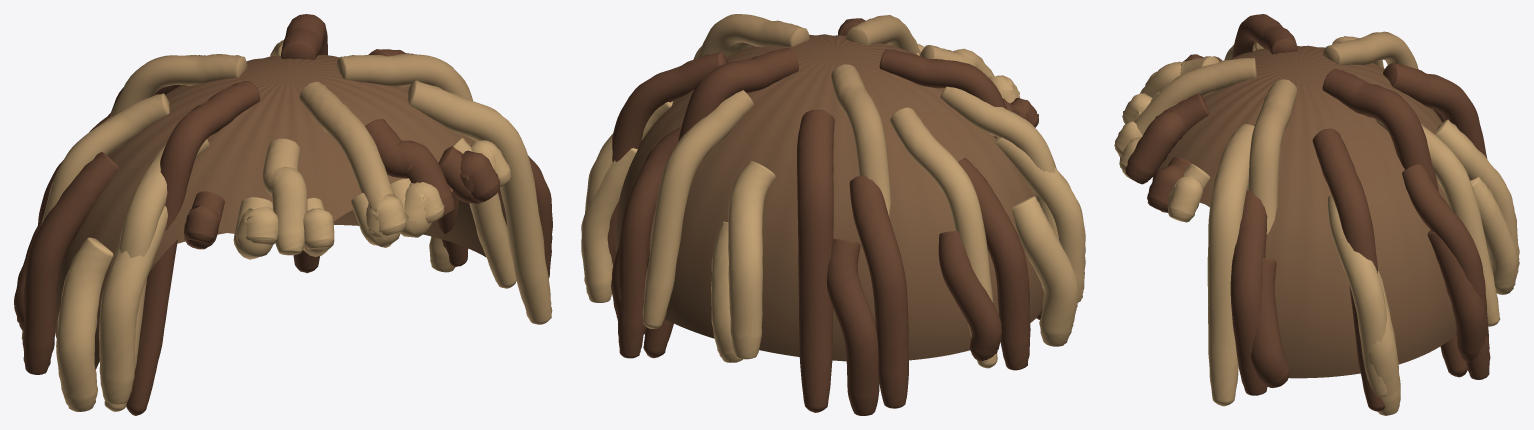
File: Highlights-43ad5f7face6251-hair.glb
The picture shows the model from 3 angles, left to right: view 1: azimuth 30°, elevation 25°; view 2: azimuth 150°, elevation 25°; view 3: azimuth 270°, elevation 25°; orthographic projection. The views are drawn at different scales.
Visible parts, largest first — view 1: 226 hair / Hair / loc main251, 226 hair / Hair / loc accent251, 226 hair / Hair / recessed roots251; view 2: 226 hair / Hair / loc main251, 226 hair / Hair / recessed roots251, 226 hair / Hair / loc accent251; view 3: 226 hair / Hair / loc main251, 226 hair / Hair / recessed roots251, 226 hair / Hair / loc accent251.
Part boxes in pixels (x1,y1,x2,y2): 226 hair / Hair / loc main251: [14, 14, 552, 415]; 226 hair / Hair / loc accent251: [56, 40, 552, 411]; 226 hair / Hair / recessed roots251: [55, 55, 507, 369]; 226 hair / Hair / loc main251: [607, 15, 1042, 415]; 226 hair / Hair / recessed roots251: [615, 34, 1044, 361]; 226 hair / Hair / loc accent251: [581, 14, 1085, 362]; 226 hair / Hair / loc main251: [1125, 14, 1490, 411]; 226 hair / Hair / recessed roots251: [1157, 45, 1456, 378]; 226 hair / Hair / loc accent251: [1114, 31, 1519, 415].
Size of the model in its own units: 1.13 by 0.666 by 0.8975.
